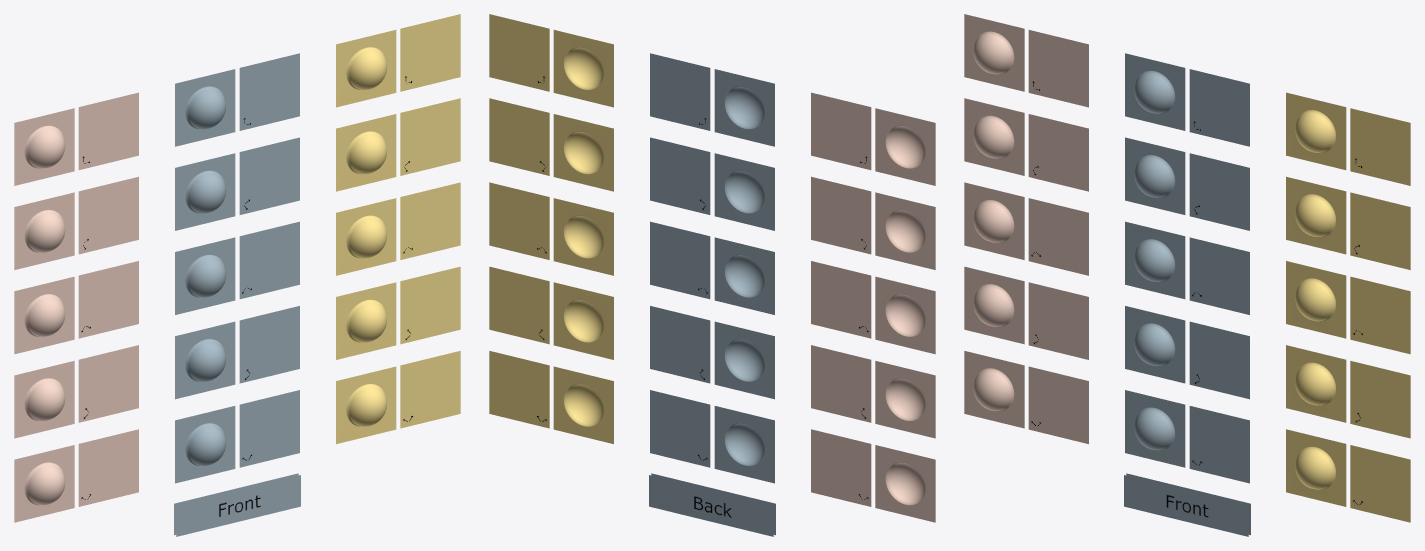
File: NormalTangentTest.gltf
3 renders of one model, left to right at view 1: azimuth 30°, elevation 25°; view 2: azimuth 150°, elevation 25°; view 3: azimuth 330°, elevation 25°, orthographic.
Parts seen in each view (by area): view 1: NormalTangentTest_low; view 2: NormalTangentTest_low; view 3: NormalTangentTest_low.
Boxes of the visible parts, bbox=[...] form: NormalTangentTest_low: bbox=[14, 14, 460, 536]; NormalTangentTest_low: bbox=[489, 14, 935, 536]; NormalTangentTest_low: bbox=[964, 14, 1410, 536].
Bounding box in the file's own units: 2.22 × 2.15 × 0.0905.
1 material, 1 textured.
